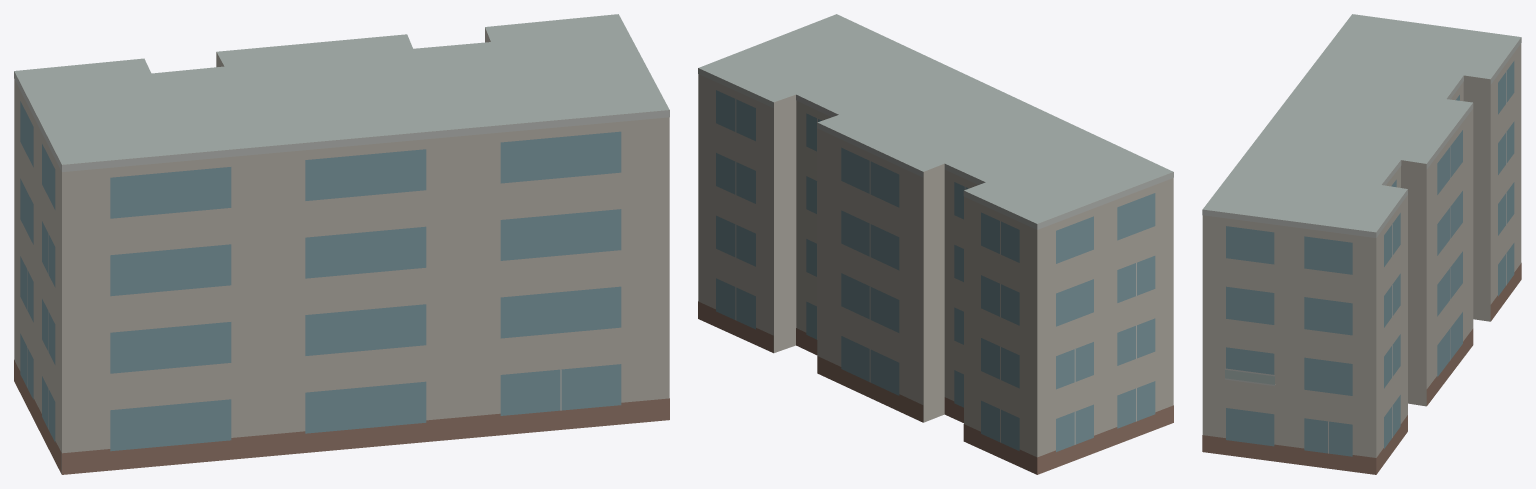
File: survey-upis-32526573.glb
3 views of the same model, side by side, from view 1: azimuth 30°, elevation 25°; view 2: azimuth 150°, elevation 25°; view 3: azimuth 270°, elevation 25° (orthographic). The views are drawn at different scales.
Parts seen in each view (by area): view 1: survey-upis-32526573.tmp; view 2: survey-upis-32526573.tmp; view 3: survey-upis-32526573.tmp.
Part boxes in pixels (box(x1,y1,x2,y2)): survey-upis-32526573.tmp: box(14, 14, 669, 474); survey-upis-32526573.tmp: box(698, 14, 1173, 474); survey-upis-32526573.tmp: box(1202, 14, 1521, 474).
Size of the model in its own units: 20 by 10.35 by 12.35.
